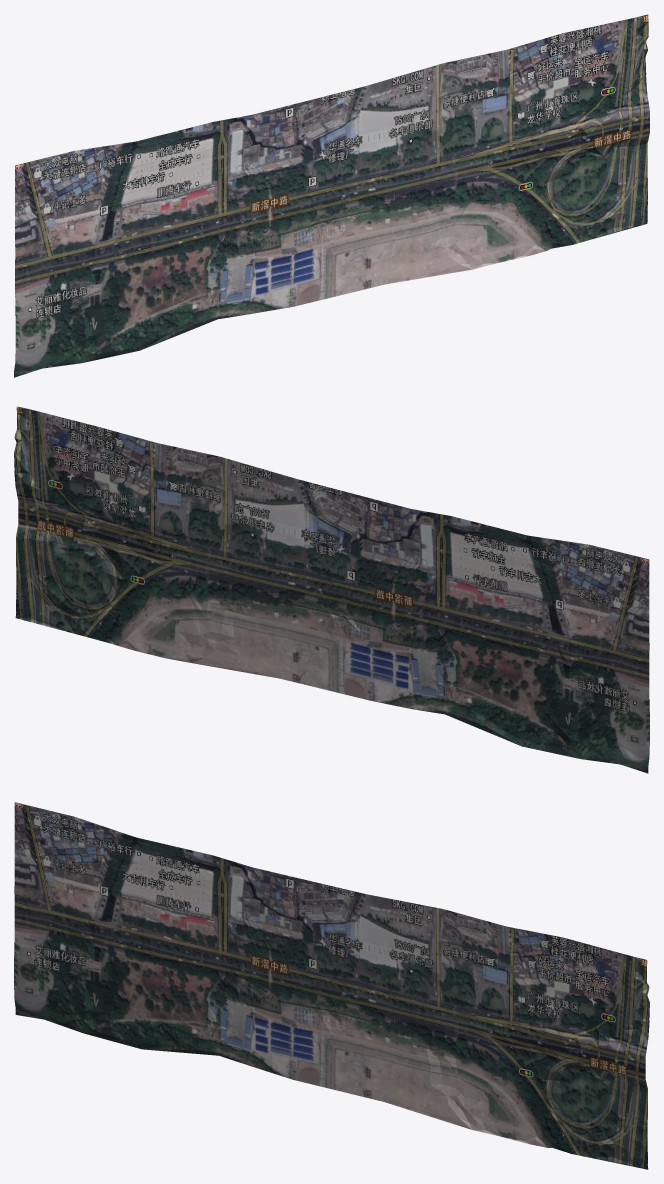
3 renders of one model, top to bottom at view 1: azimuth 30°, elevation 25°; view 2: azimuth 150°, elevation 25°; view 3: azimuth 330°, elevation 25°, orthographic.
Parts seen in each view (by area): view 1: 0_2_3_1_1; view 2: 0_2_3_1_1; view 3: 0_2_3_1_1.
Boxes of the visible parts, box(x1,y1,x2,y2) form: 0_2_3_1_1: box(14, 14, 649, 377); 0_2_3_1_1: box(14, 406, 649, 773); 0_2_3_1_1: box(14, 802, 649, 1169).
Bounding box in the file's own units: 972 × 319 × 11.72.
1 material, 1 textured.
